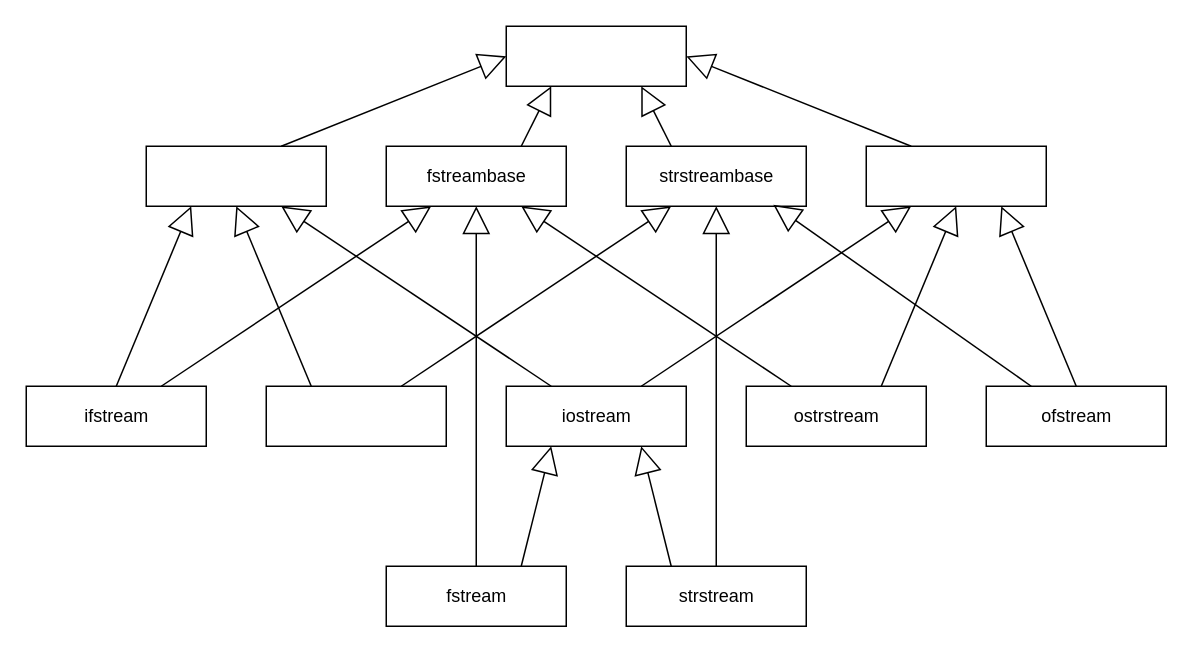
The diagram is 1193 pixels wide and 653 high, and some of its shapes have lost their labels. The shapes that lost their labels are listed below. From the top down, each one's centre as x and y in pixels, then its label:
(595,55): ios
(235,175): istream
(955,175): ostream
(355,415): istrstream
